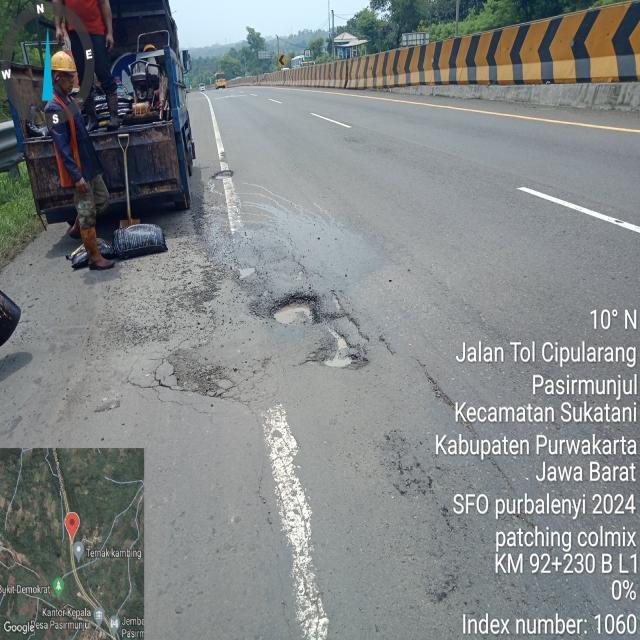Buraco: (265, 288, 372, 373), (210, 169, 236, 181)
